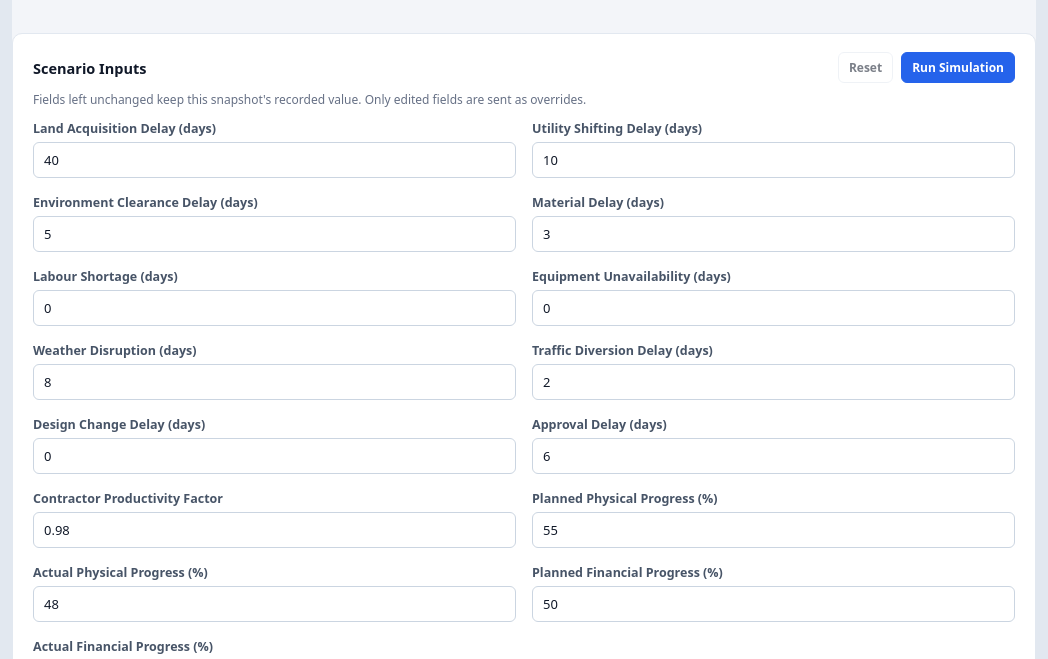
Test case: Simulator page › renders override inputs for a non-terminal snapshot and runs a simulation
The image size is (1048, 659).
Replace the text in the number field labelled "Contractor Productivity Factor" with "0.5" at x=274, y=530, box [33,512,516,548]
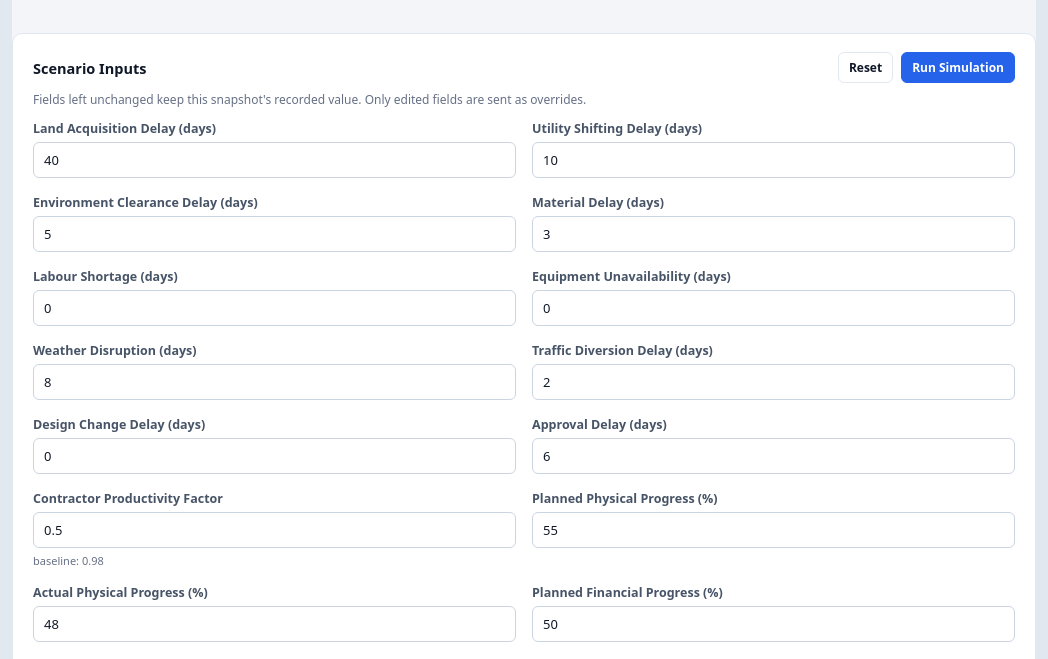
Click the button "Run Simulation" at x=958, y=68, box [901,52,1015,83]
(page scrolled)
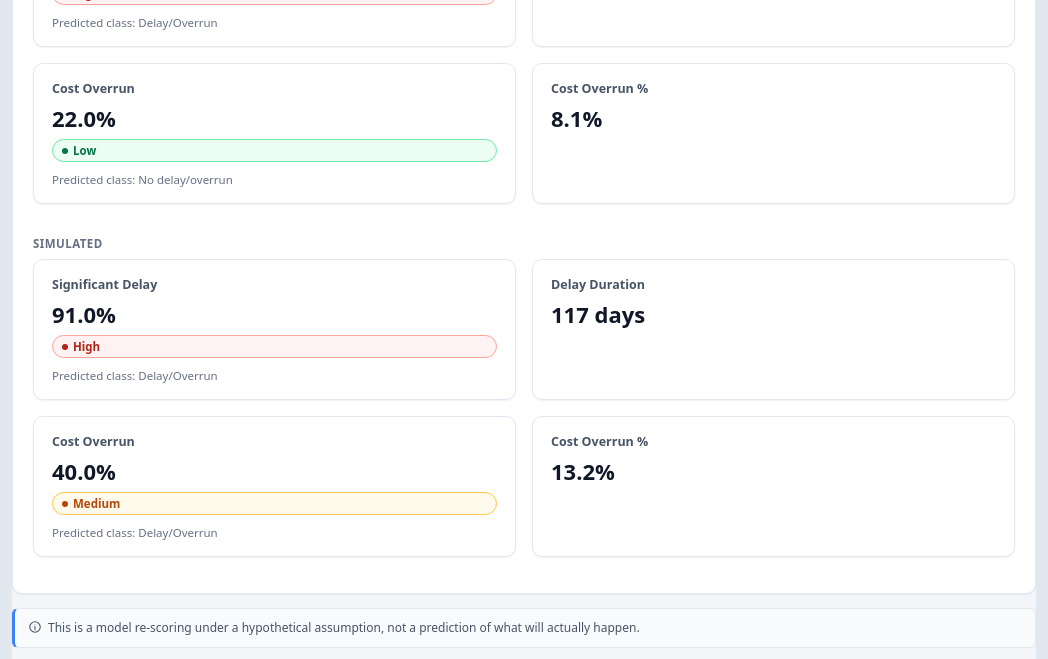
Check: the text "This is a model re-scoring under a hypothetical assumption" is shown, box [48,619,640,636]
